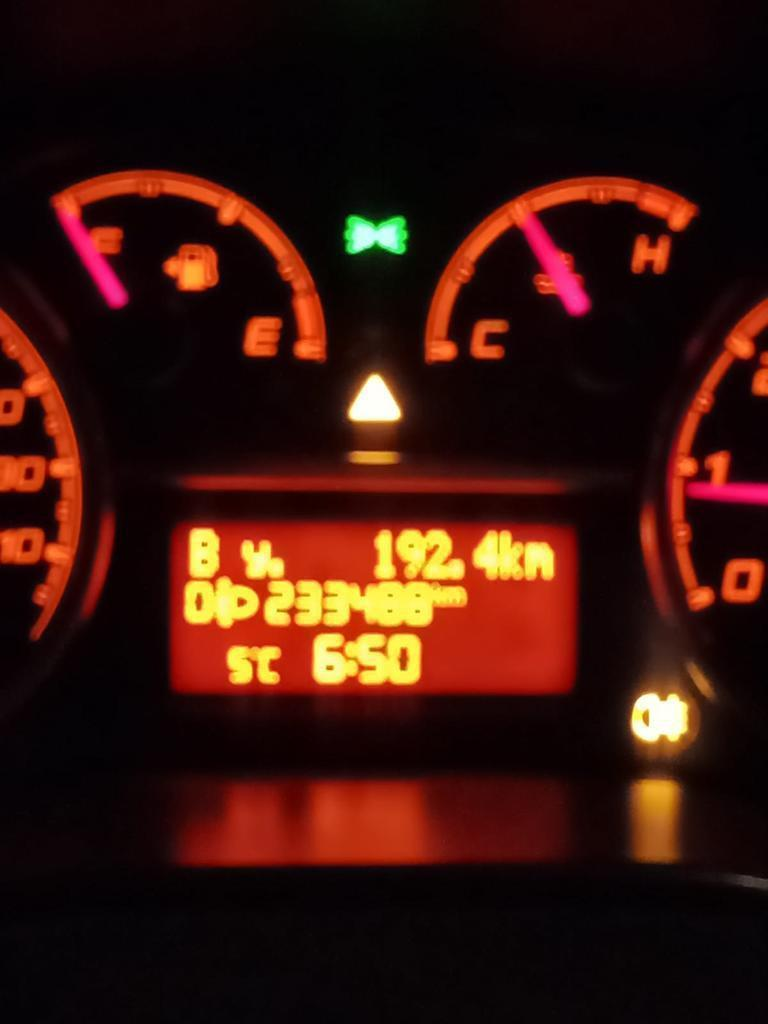,: (450, 557, 466, 580), (270, 556, 284, 579)
0: (389, 631, 422, 686), (181, 578, 214, 625)
1: (370, 527, 396, 579)
2: (424, 527, 452, 580), (262, 579, 293, 626)
3: (294, 579, 322, 626), (323, 578, 349, 627)
4: (470, 526, 498, 582), (349, 579, 377, 626)
5: (357, 632, 388, 685), (224, 643, 250, 685)
6: (309, 631, 345, 686)
8: (403, 579, 432, 626), (377, 580, 403, 627)
9: (395, 527, 424, 580)
X: (187, 526, 220, 579), (239, 536, 272, 580), (498, 527, 524, 581), (524, 540, 556, 582), (258, 644, 282, 685), (444, 584, 470, 608), (345, 639, 357, 678), (432, 580, 444, 608)
odometer: (160, 512, 587, 700)
